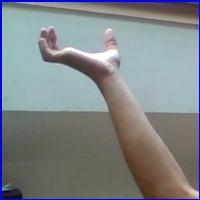space: (32, 21, 127, 78)
